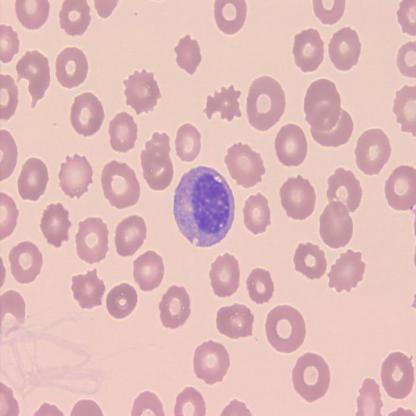Metamyelocyte: (171, 164, 236, 250)
